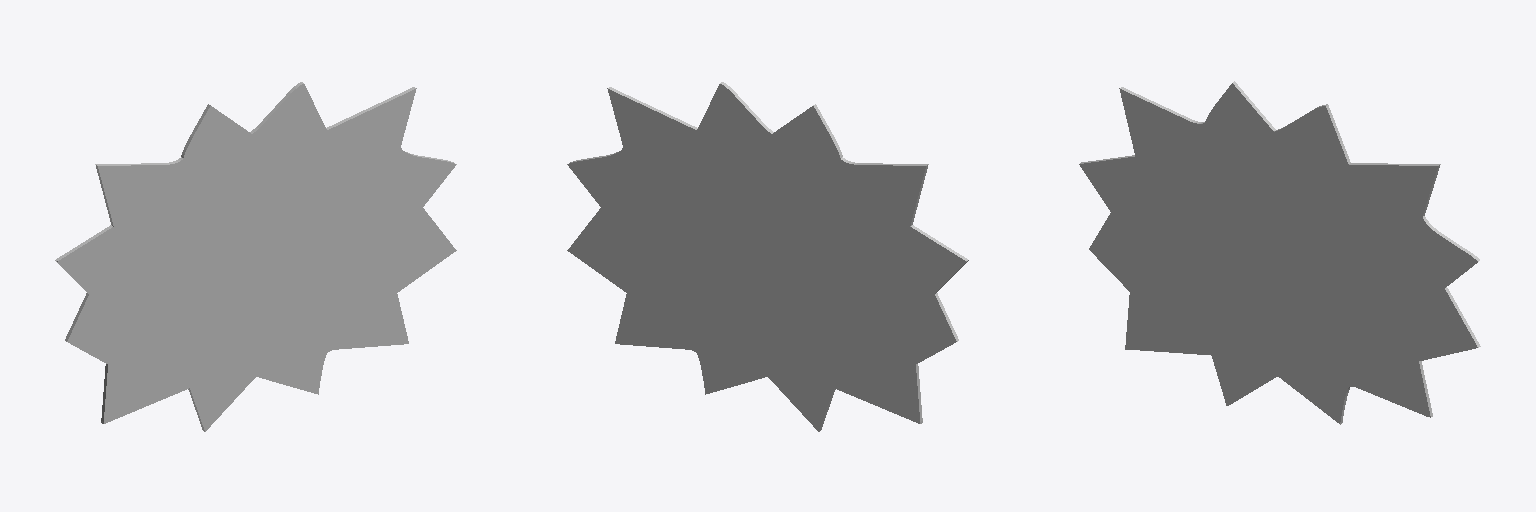
Rendered from ActionBallon3.obj.
3 views of the same model, side by side, from view 1: azimuth 30°, elevation 25°; view 2: azimuth 150°, elevation 25°; view 3: azimuth 330°, elevation 25° (orthographic).
Visible parts, largest first — view 1: Layer; view 2: Layer; view 3: Layer.
Boxes of the visible parts, <box> form: Layer: <box>55,82,456,431</box>; Layer: <box>567,82,968,431</box>; Layer: <box>1079,81,1480,424</box>.
Size of the model in its own units: 11.19 by 8.72 by 0.1156.